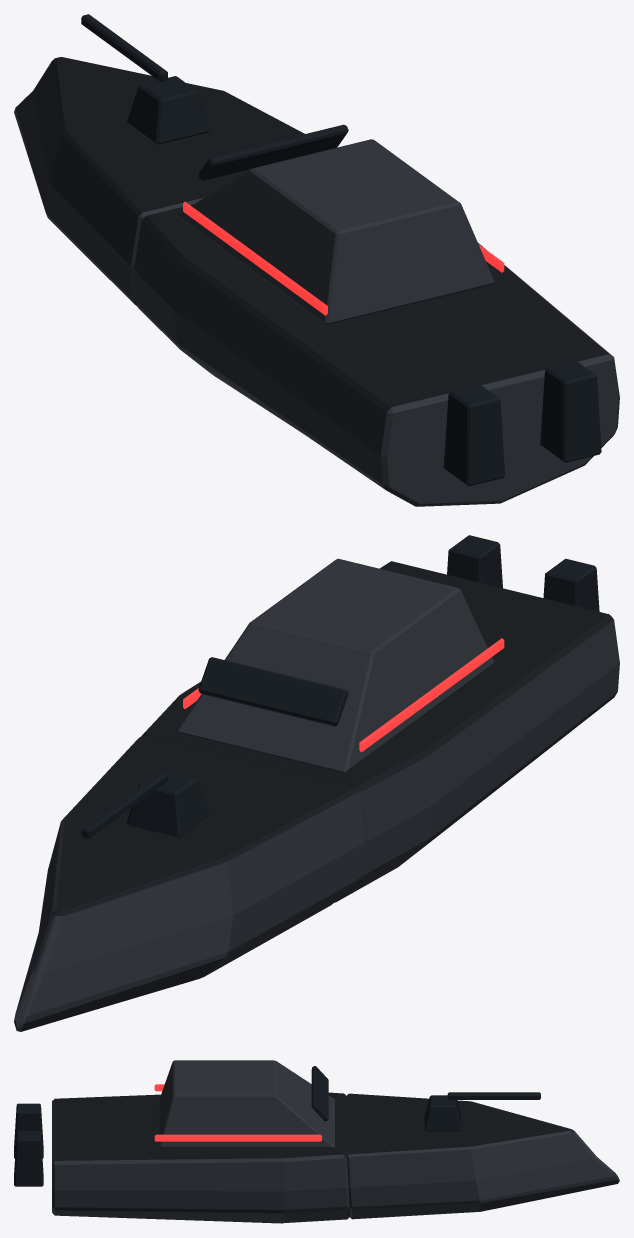
File: speedboat.glb
The picture shows the model from 3 angles, top to bottom: view 1: azimuth 30°, elevation 25°; view 2: azimuth 150°, elevation 25°; view 3: azimuth 270°, elevation 25°; orthographic projection. The views are drawn at different scales.
Visible parts, largest first — view 1: SternHull, SternTop, BowHull, BowTop; view 2: BowHull, SternTop, SternHull, BowTop; view 3: SternHull, BowHull, SternTop, BowTop.
Boxes of the visible parts, <box> form: SternHull: <box>134,204,619,506</box>; SternTop: <box>178,124,601,486</box>; BowHull: <box>14,57,304,305</box>; BowTop: <box>81,14,209,144</box>; BowHull: <box>14,736,364,1031</box>; SternTop: <box>178,535,599,772</box>; SternHull: <box>142,561,619,902</box>; BowTop: <box>81,769,209,838</box>; SternHull: <box>52,1092,349,1223</box>; BowHull: <box>347,1093,619,1219</box>; SternTop: <box>14,1060,334,1186</box>; BowTop: <box>424,1092,540,1131</box>.
Bounding box in the file's own units: 1.88 × 1.59 × 6.51.
